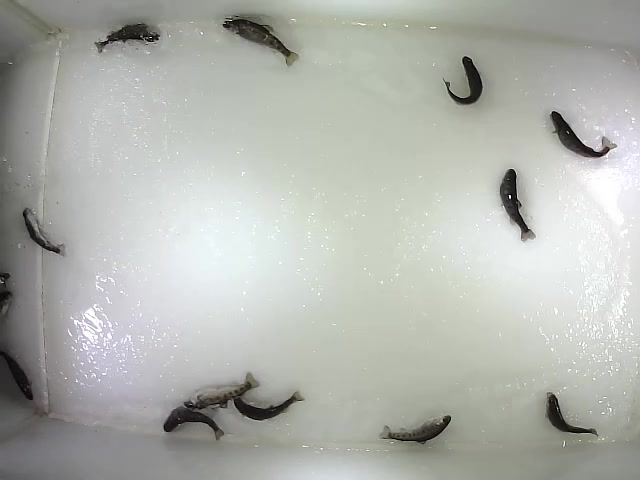fish: (221, 17, 303, 69), (548, 109, 619, 160), (182, 370, 262, 410), (498, 168, 537, 243), (544, 390, 599, 438), (92, 19, 163, 56), (21, 206, 69, 258), (232, 389, 306, 422), (378, 414, 453, 446), (162, 405, 226, 442), (440, 55, 484, 107), (1, 348, 36, 403)
